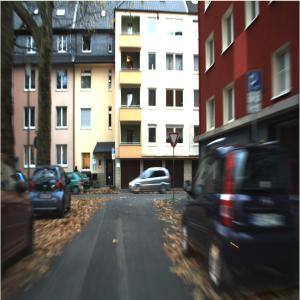give way: (169, 133, 180, 150)
